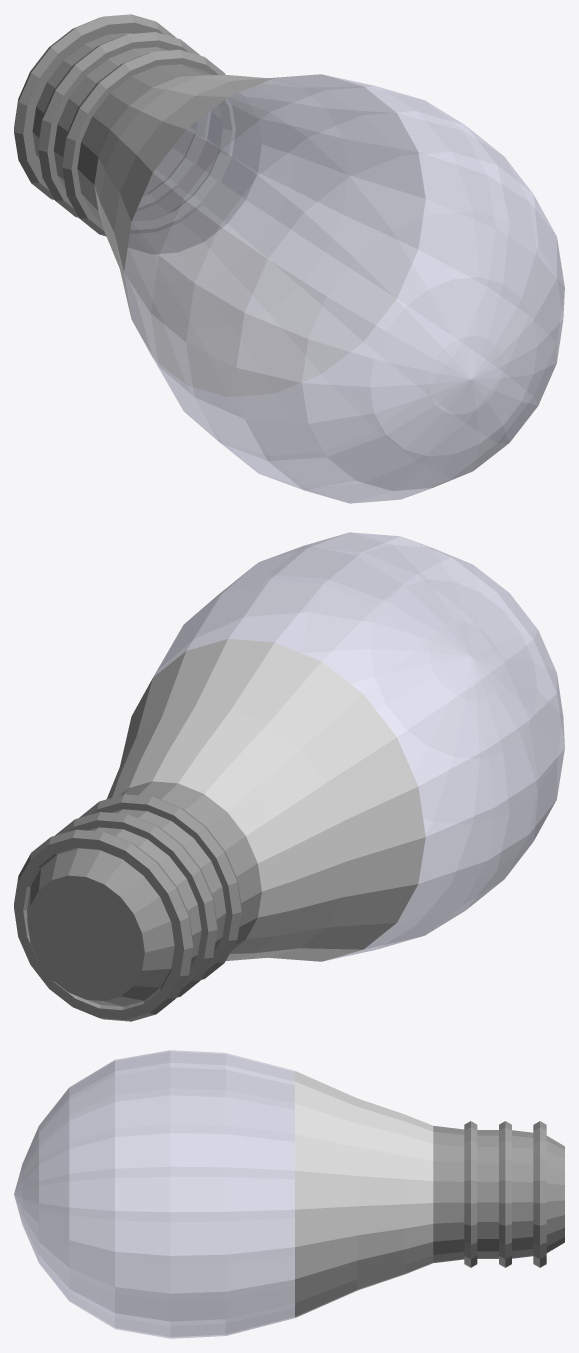
Rendered from Bulb.obj.
3 renders of one model, top to bottom at view 1: azimuth 30°, elevation 25°; view 2: azimuth 150°, elevation 25°; view 3: azimuth 270°, elevation 25°, orthographic. The views are drawn at different scales.
Visible parts, largest first — view 1: Bulb; view 2: Bulb; view 3: Bulb.
Part boxes in pixels (<box>): Bulb: <box>14,14,564,503</box>; Bulb: <box>14,532,564,1021</box>; Bulb: <box>14,1050,564,1338</box>.
Size of the model in its own units: 0.21 by 0.21 by 0.398.
